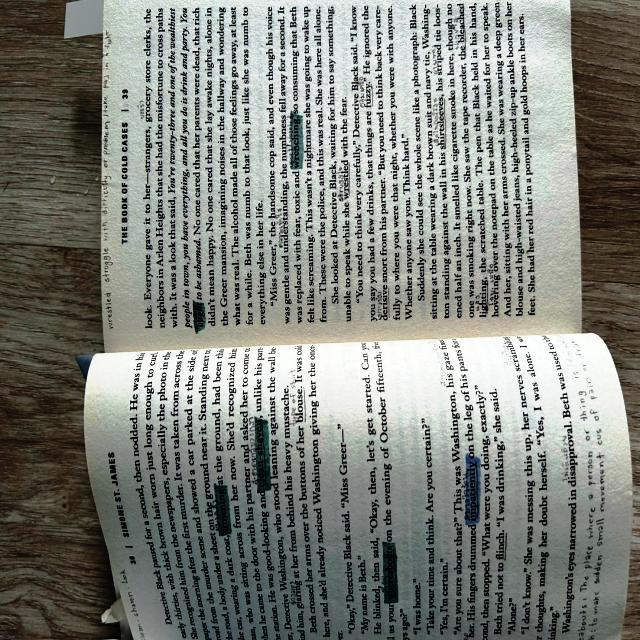Book: (65, 0, 631, 639)
